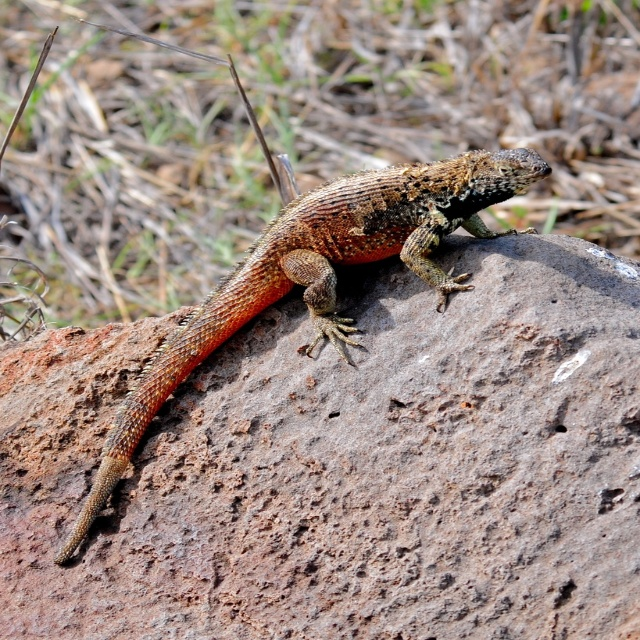Lizard: (35, 127, 538, 547)
